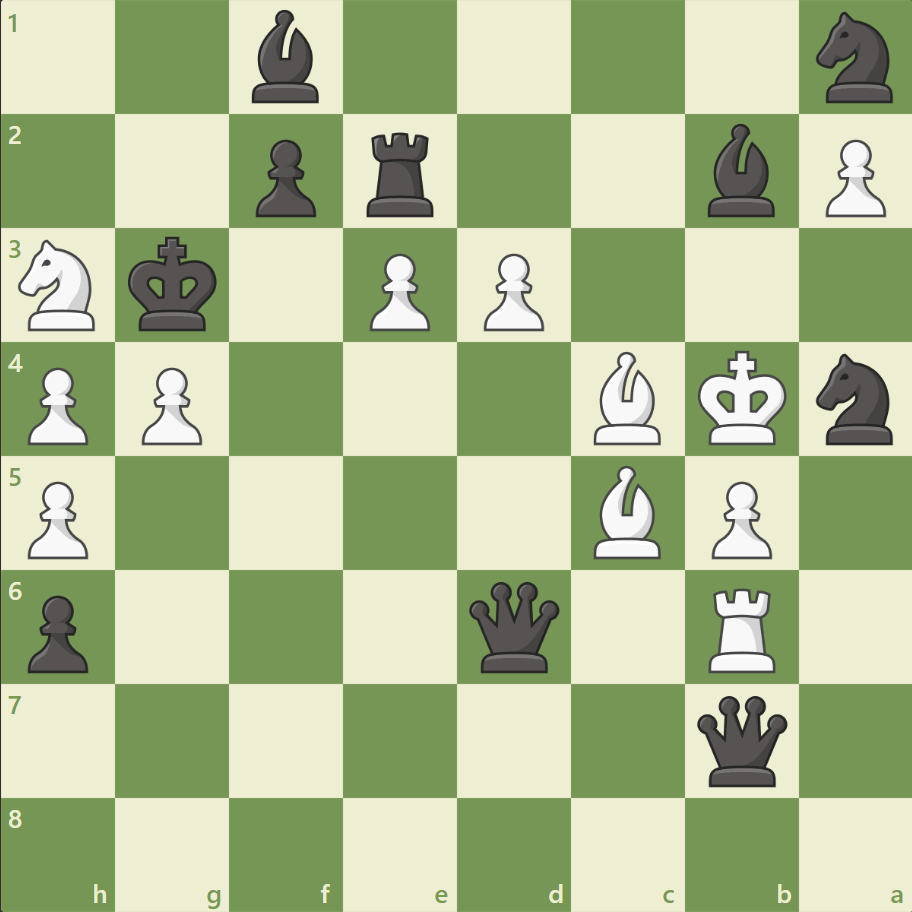B: (585, 460, 669, 563), (585, 347, 669, 449)
K: (692, 344, 792, 452)
N: (11, 234, 108, 337)
P: (701, 473, 776, 564), (20, 473, 95, 564), (133, 359, 208, 450), (20, 359, 95, 450), (474, 246, 549, 337), (361, 246, 435, 337), (815, 132, 889, 223)
R: (700, 579, 783, 676)
b: (244, 6, 328, 109), (698, 120, 782, 222)
k: (124, 231, 224, 339)
n: (806, 7, 903, 110), (806, 348, 903, 450)
p: (20, 586, 95, 677), (247, 132, 322, 223)
q: (464, 576, 563, 676), (691, 690, 790, 789)
r: (360, 125, 442, 222)
